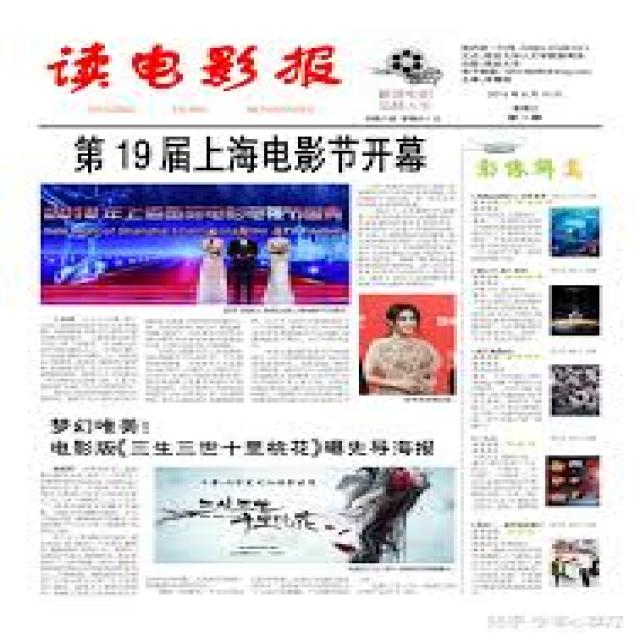paper: (0, 3, 640, 636)
